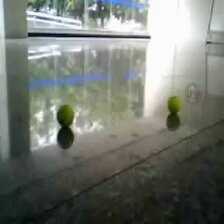tennis: (56, 104, 74, 125), (167, 95, 181, 113)
